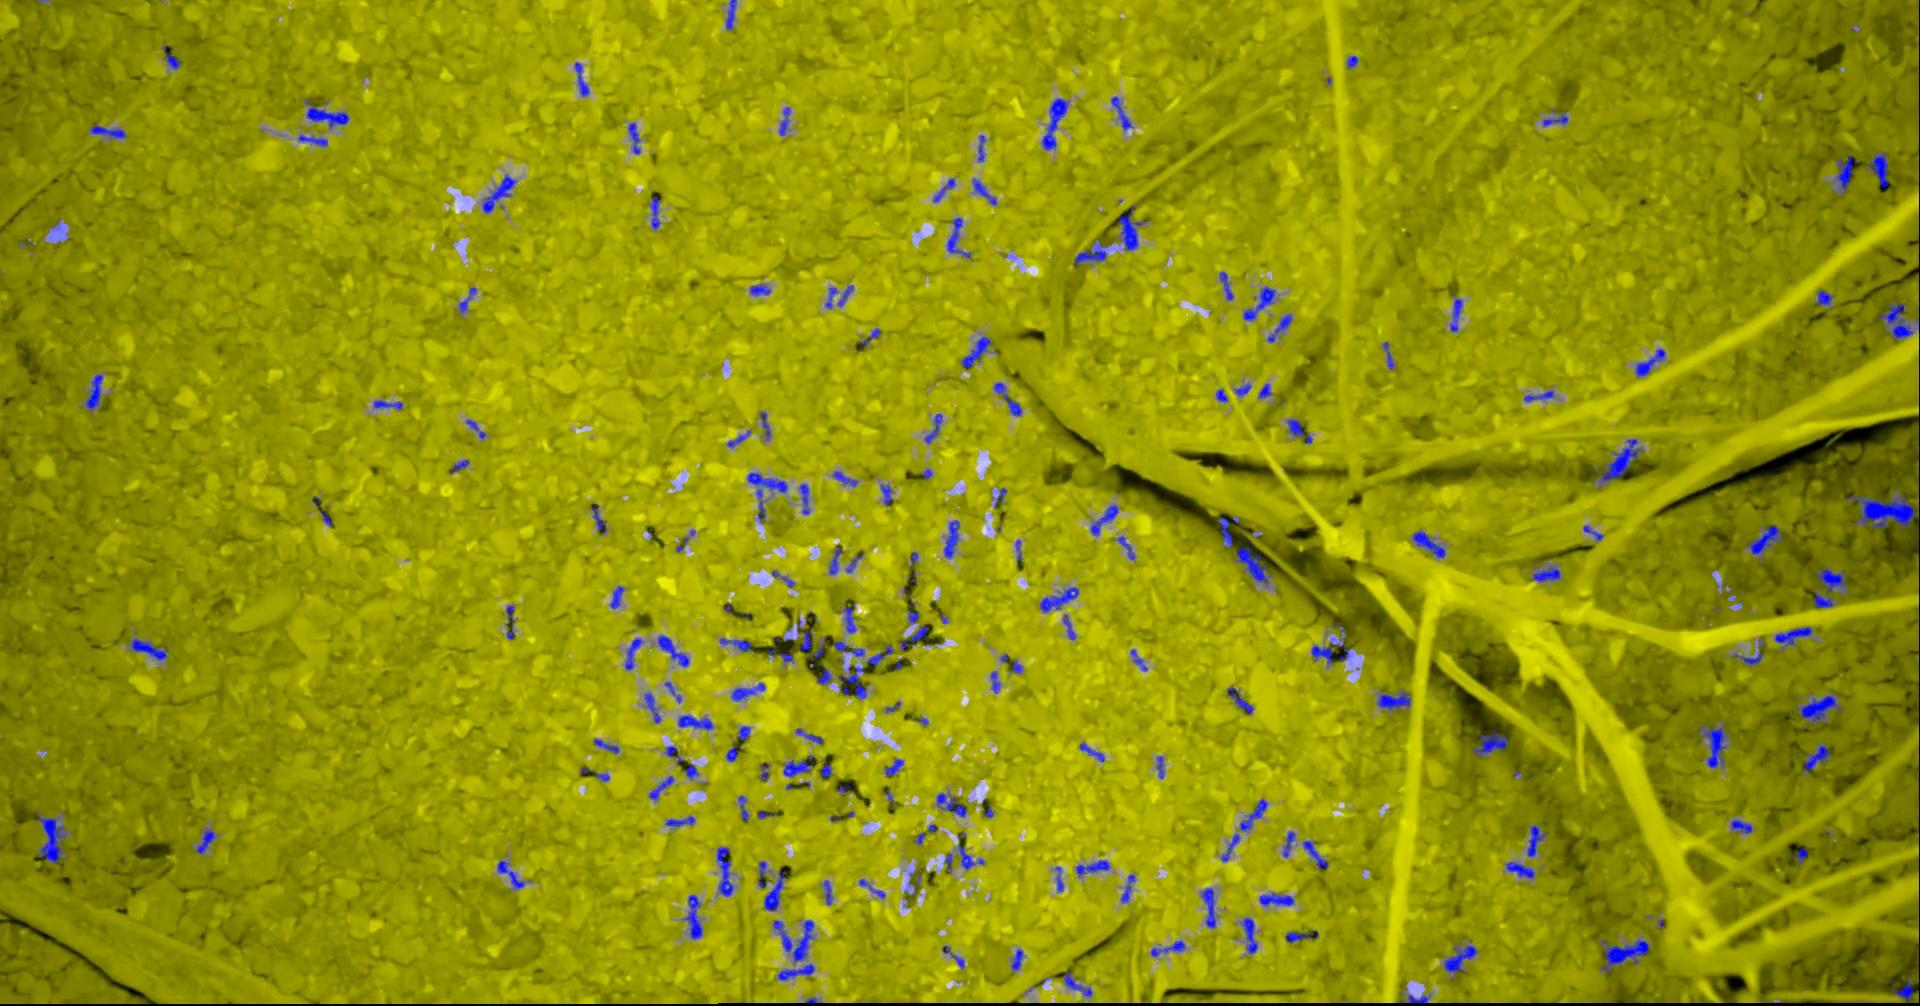ant: (747, 473, 787, 521), (1599, 438, 1641, 481), (772, 920, 813, 962), (1600, 939, 1648, 970), (1236, 541, 1270, 586), (36, 812, 65, 862), (1789, 695, 1841, 721), (1813, 567, 1846, 607), (1041, 98, 1067, 150), (483, 174, 516, 213), (305, 99, 349, 128), (1117, 205, 1145, 250), (1877, 304, 1912, 339), (1698, 727, 1727, 767), (1243, 286, 1275, 320), (1746, 525, 1782, 554), (657, 634, 688, 666), (1039, 587, 1078, 612), (1472, 728, 1507, 756), (946, 217, 970, 257), (961, 337, 990, 368), (993, 382, 1021, 415), (1310, 636, 1343, 664), (838, 666, 866, 699), (1239, 799, 1267, 831), (1412, 531, 1445, 558), (1443, 945, 1476, 972), (763, 868, 783, 909), (1834, 155, 1857, 192), (130, 638, 166, 661), (1073, 240, 1106, 265), (683, 894, 702, 937), (1090, 506, 1117, 535), (799, 627, 825, 658), (716, 847, 733, 895), (497, 860, 524, 888), (1634, 348, 1663, 375), (957, 838, 983, 869), (1225, 686, 1252, 714), (1302, 840, 1327, 869), (936, 793, 966, 817), (1217, 516, 1239, 547), (1774, 626, 1812, 645), (1110, 97, 1131, 130), (900, 624, 927, 650), (1803, 743, 1829, 771), (1267, 312, 1291, 342), (1062, 972, 1091, 996), (1890, 978, 1919, 1002), (1869, 152, 1888, 188), (783, 754, 814, 776), (777, 963, 814, 981), (730, 682, 764, 701), (648, 775, 673, 800), (971, 178, 996, 205), (1200, 887, 1215, 927), (1288, 418, 1312, 443), (85, 373, 102, 409), (1377, 691, 1410, 709), (1241, 917, 1257, 953), (943, 520, 959, 558), (643, 692, 662, 723), (1526, 826, 1545, 856), (866, 644, 893, 666), (623, 638, 641, 669), (1150, 940, 1183, 956), (924, 413, 942, 443), (858, 878, 885, 898), (88, 124, 126, 138), (1732, 649, 1763, 666), (677, 715, 712, 729), (1222, 833, 1239, 861), (1258, 890, 1294, 904), (932, 178, 954, 201), (942, 945, 964, 968), (1505, 861, 1534, 878), (574, 62, 588, 97), (590, 503, 606, 533), (833, 640, 863, 655), (1531, 564, 1559, 580), (1076, 860, 1109, 874), (196, 829, 215, 854), (719, 638, 750, 652), (795, 728, 822, 744), (163, 44, 180, 69), (726, 429, 750, 447), (1079, 743, 1103, 761), (1449, 298, 1462, 332), (1285, 930, 1318, 942), (627, 122, 640, 154), (458, 287, 475, 311), (1218, 271, 1232, 298), (1120, 874, 1134, 902), (1542, 111, 1567, 126), (297, 133, 328, 146), (465, 419, 485, 438), (832, 471, 857, 486), (649, 196, 660, 229), (1117, 536, 1134, 559), (844, 553, 863, 572), (837, 285, 853, 306), (858, 328, 880, 344), (1062, 614, 1076, 639), (593, 739, 618, 753), (1523, 390, 1553, 401), (828, 547, 841, 574), (664, 746, 683, 763), (1130, 649, 1147, 669), (725, 0, 737, 29), (778, 105, 790, 135), (799, 483, 809, 514), (1382, 340, 1393, 368), (610, 586, 623, 608), (884, 760, 903, 776), (505, 605, 514, 639), (843, 606, 855, 633), (1283, 831, 1294, 857), (1730, 819, 1751, 833), (373, 399, 403, 409), (665, 815, 695, 826), (1399, 995, 1429, 1005), (1790, 847, 1807, 865), (1583, 525, 1603, 540), (1010, 948, 1022, 969), (759, 412, 770, 438), (738, 795, 748, 822), (450, 459, 469, 473), (824, 287, 837, 307), (1816, 290, 1832, 305), (880, 484, 891, 506), (822, 880, 832, 904), (757, 861, 766, 888), (749, 283, 770, 295), (817, 667, 830, 683), (737, 727, 749, 744), (1054, 866, 1063, 890), (684, 763, 698, 779), (977, 135, 984, 161), (907, 605, 918, 622), (990, 669, 999, 692), (819, 760, 830, 777), (725, 746, 738, 761), (1234, 384, 1251, 395), (1156, 754, 1163, 779), (1258, 384, 1271, 398), (1215, 387, 1227, 401), (759, 763, 768, 780), (1346, 55, 1357, 67)
